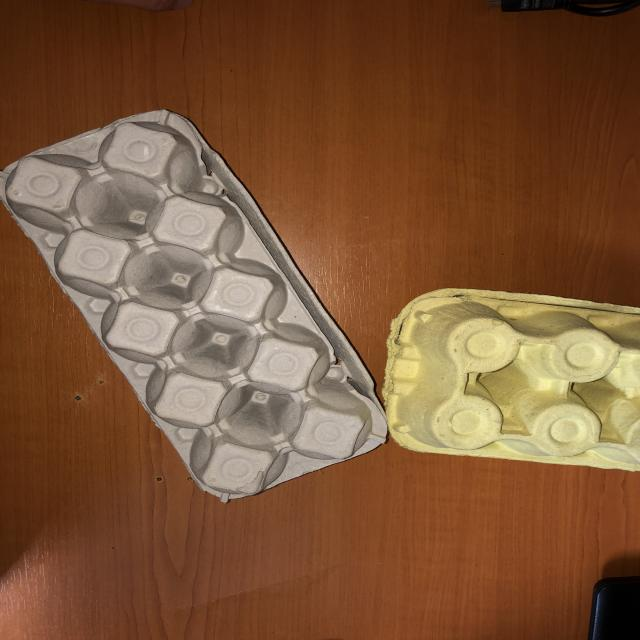eggs: (1, 111, 386, 504), (382, 285, 640, 472)
